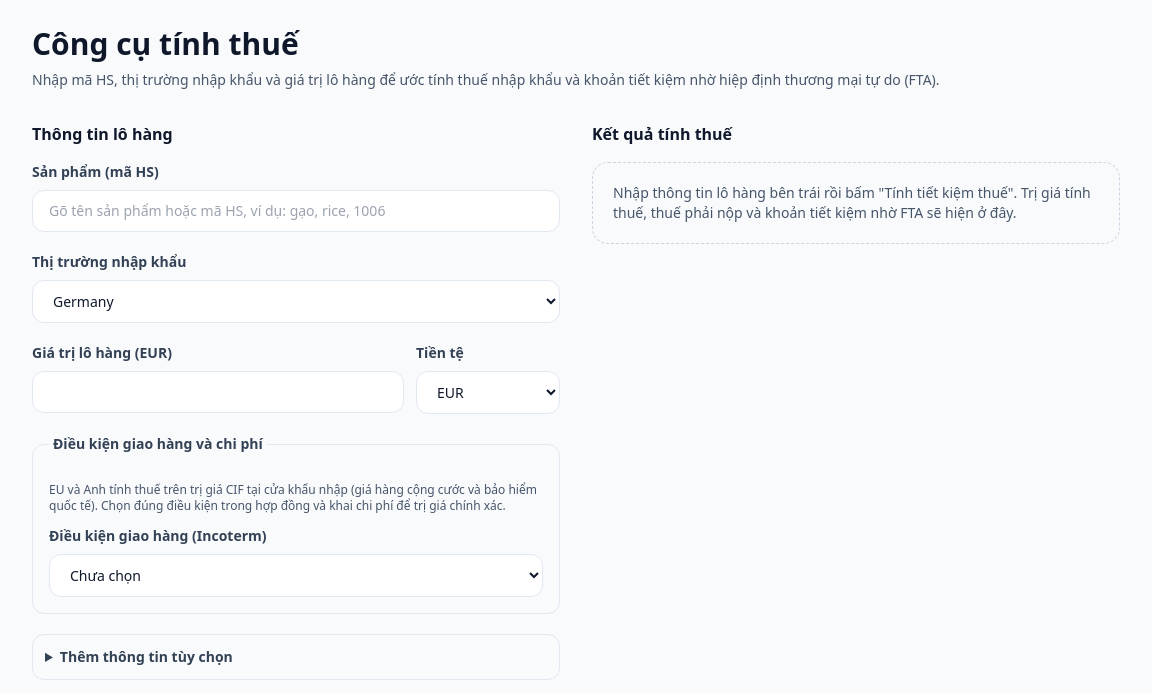
it: Gợi ý cước và bảo hiểm (N6a) › chọn loại container thì chỉ hiện giá cước của loại đó
The width and height of the screenshot is (1152, 693).
Select "FOB — Giao lên tàu" in the dropdown labelled "Điều kiện giao hàng (Incoterm)". click: (296, 576)
box: [49, 554, 543, 597]
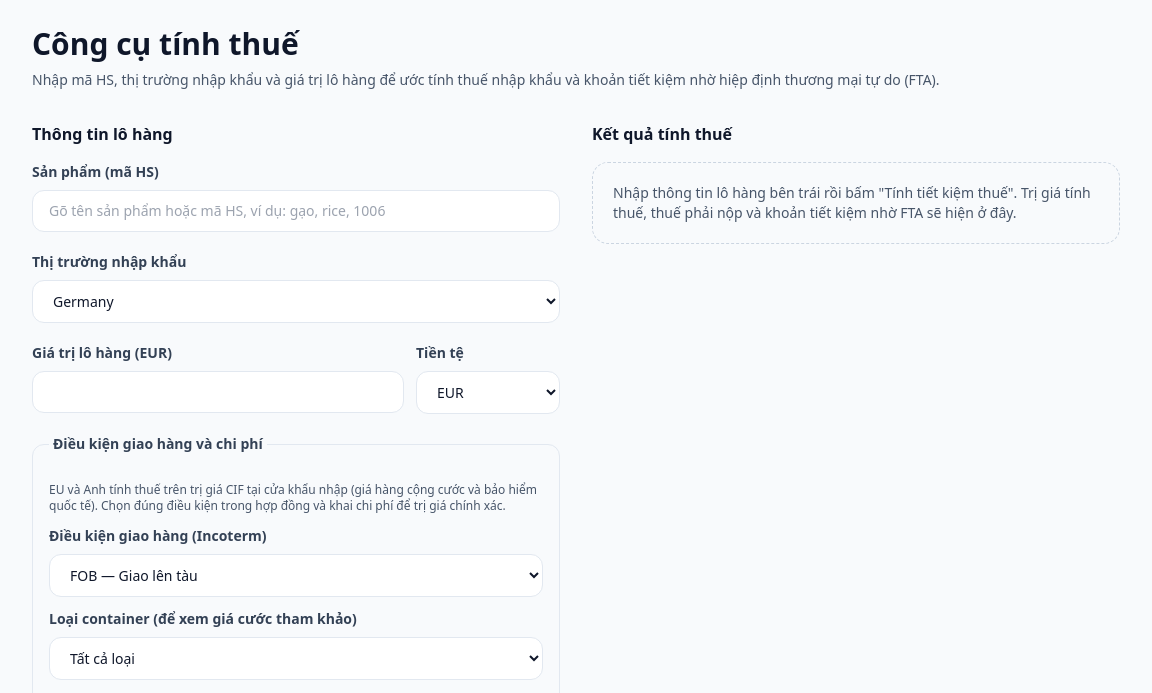
Select "Container 40ft" in the dropdown labelled "Loại container (để xem giá cước tham khảo)". click: (296, 658)
box: [49, 637, 543, 680]
(page scrolled)
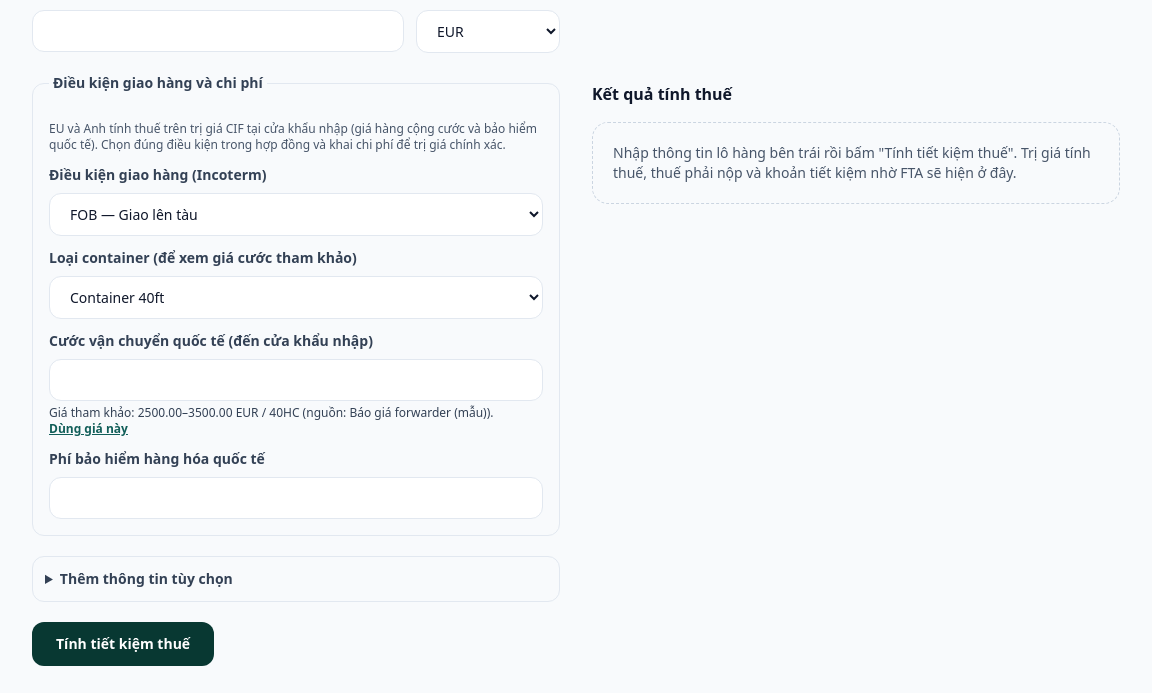
Expected: the number of buttons "Dùng giá này" is 1
Click the button "Dùng giá này". click: (88, 429)
box: [49, 421, 128, 437]
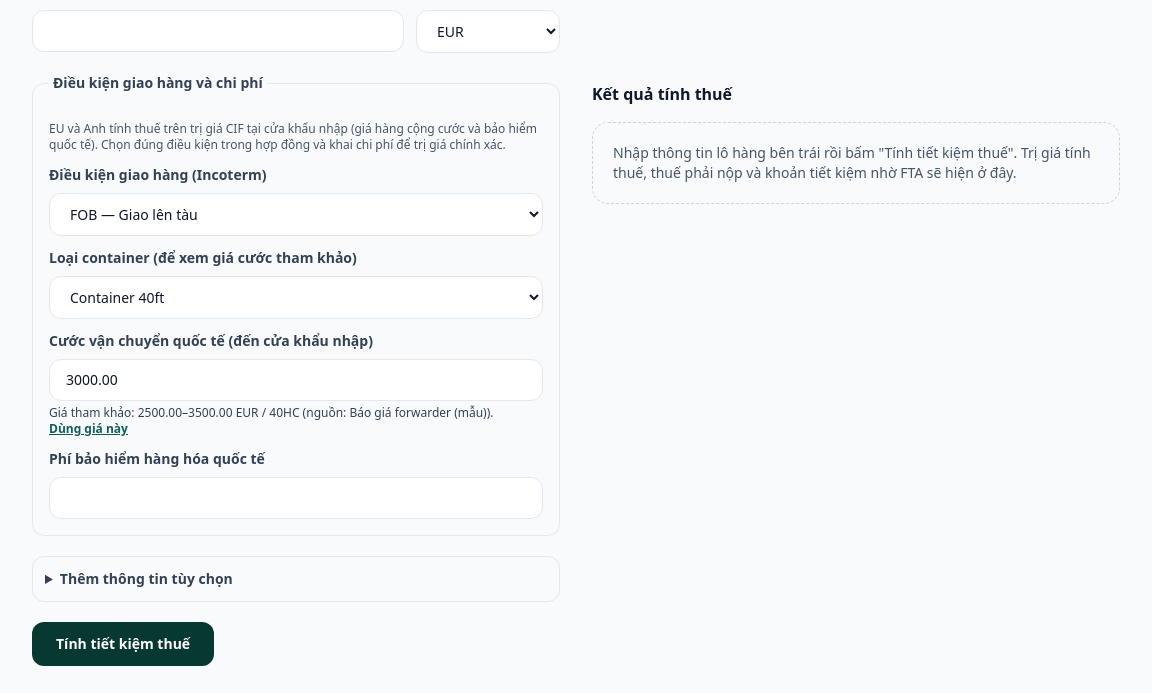
Expected: the field labelled "Cước vận chuyển quốc tế (đến cửa khẩu nhập)" holds "3000.00", [49, 359, 543, 401]
